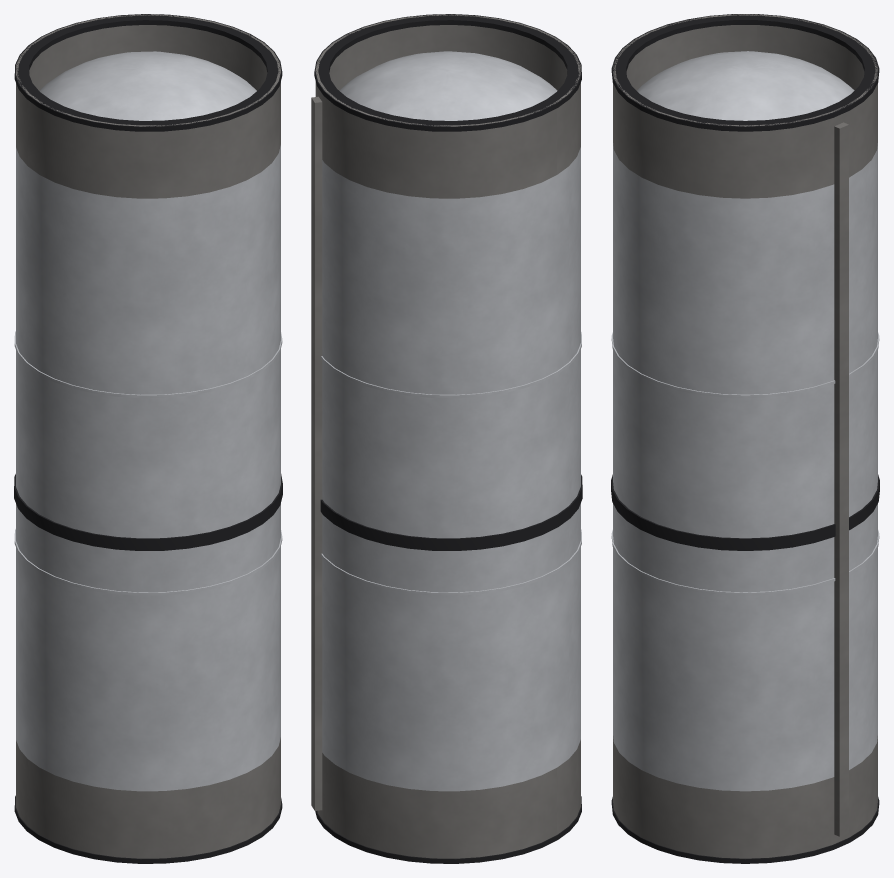
File: tank01_methalox_m.glb
The picture shows the model from 3 angles, left to right: view 1: azimuth 30°, elevation 25°; view 2: azimuth 150°, elevation 25°; view 3: azimuth 270°, elevation 25°; orthographic projection.
Visible parts, largest first — view 1: tank, skirts, stack_flanges, bulkhead_band, ring_frames; view 2: tank, skirts, stack_flanges, raceway, bulkhead_band, ring_frames; view 3: tank, skirts, raceway, stack_flanges, bulkhead_band, ring_frames.
Boxes of the visible parts, box(x1,y1,x2,y2) form: tank: box(16, 51, 280, 791); skirts: box(16, 14, 280, 858); stack_flanges: box(14, 14, 282, 863); bulkhead_band: box(14, 474, 282, 550); ring_frames: box(14, 331, 282, 595); tank: box(322, 51, 580, 791); skirts: box(315, 14, 580, 858); stack_flanges: box(314, 14, 581, 863); raceway: box(311, 96, 322, 810); bulkhead_band: box(320, 474, 582, 550); ring_frames: box(321, 332, 581, 595); tank: box(613, 51, 877, 791); skirts: box(613, 14, 877, 858); raceway: box(834, 122, 848, 836); stack_flanges: box(611, 14, 879, 863); bulkhead_band: box(611, 474, 879, 550); ring_frames: box(611, 332, 879, 595).
Bounding box in the file's own units: 2.53 × 7.66 × 2.53.
3 materials, 2 textured.
